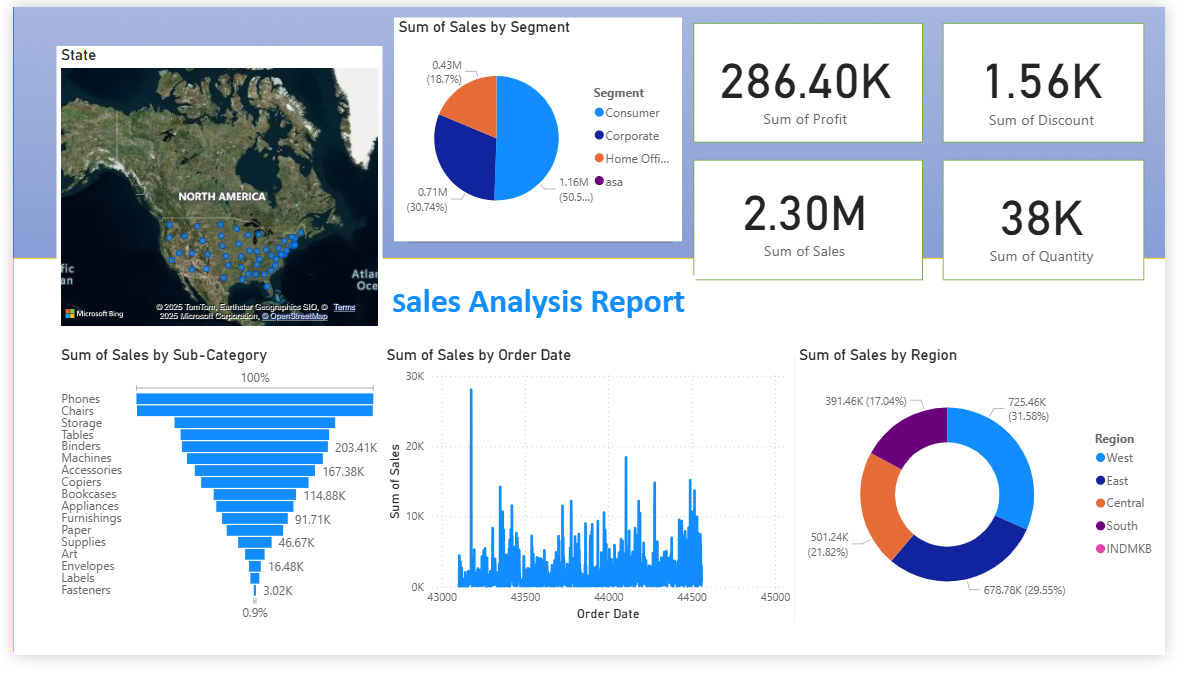

The dashboard page shown, as its layout file describes it:
{"tool":"powerbi","page":{"name":"Page 2","canvas":[1280,720],"ordinal":0},"visuals":[{"type":"card","fields":{"Values":["Sum(Orders.Sales)"]},"box":[773.3,176.7,211.7,110],"z":0},{"type":"card","fields":{"Values":["Sum(Orders.Profit)"]},"box":[775,25,210,120],"z":1000},{"type":"card","fields":{"Values":["Sum(Orders.Discount)"]},"box":[1045,25,195,121.7],"z":2000},{"type":"card","fields":{"Values":["Sum(Orders.Quantity)"]},"box":[1053.3,176.7,178.3,121.7],"z":3000},{"type":"donutChart","fields":{"Category":["Orders.Region"],"Y":["Sum(Orders.Sales)"]},"box":[868.3,376.7,411.7,310],"z":4000},{"type":"funnel","fields":{"Category":["Orders.Sub-Category"],"Y":["Sum(Orders.Sales)"]},"box":[48.3,376.7,361.7,310],"z":5000},{"type":"map","fields":{"Category":["Orders.State"]},"box":[48.3,43.3,361.7,316.7],"z":6000},{"type":"pieChart","fields":{"Category":["Orders.Segment"],"Y":["Sum(Orders.Sales)"]},"box":[423.3,11.7,320,248.3],"z":7000},{"type":"lineChart","fields":{"Y":["Sum(Orders.Sales)"],"Category":["Orders.Order Date"]},"box":[410,376.7,458.3,310],"z":8000},{"type":"textbox","box":[410,298.3,348.3,61.7],"z":9000}]}

Visuals, with their boxes in screenshot pixels (x1, y1, x2, y2), scaled from the page's 1280x720 canvas onto the 1182x675 screenshot:
card - Sum(Orders.Sales): box(714, 166, 910, 269)
card - Sum(Orders.Profit): box(716, 23, 910, 136)
card - Sum(Orders.Discount): box(965, 23, 1145, 138)
card - Sum(Orders.Quantity): box(973, 166, 1137, 280)
donutChart - Orders.Region x Sum(Orders.Sales): box(802, 353, 1181, 644)
funnel - Orders.Sub-Category x Sum(Orders.Sales): box(45, 353, 379, 644)
map - Orders.State: box(45, 41, 379, 338)
pieChart - Orders.Segment x Sum(Orders.Sales): box(391, 11, 686, 244)
lineChart - Sum(Orders.Sales) x Orders.Order Date: box(379, 353, 802, 644)
textbox: box(379, 280, 700, 338)
